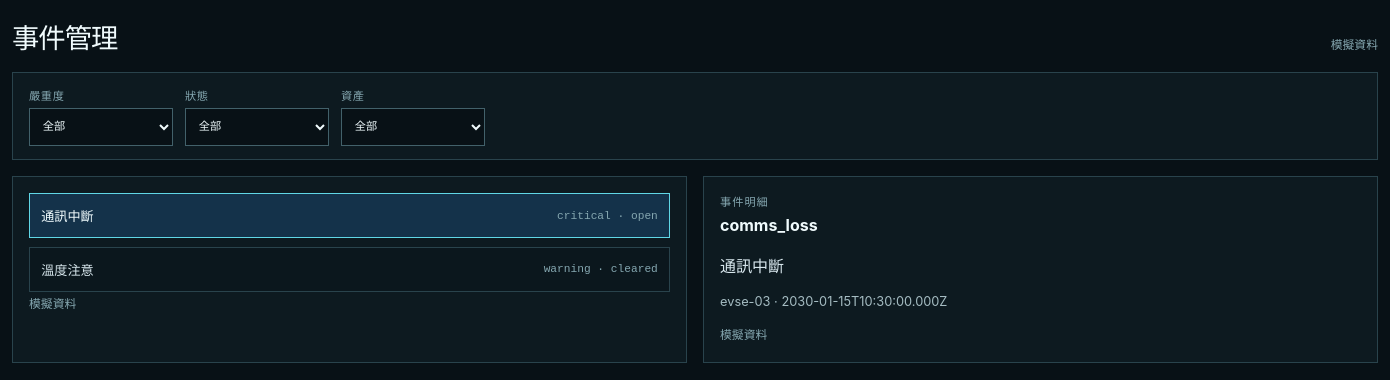
Scenario: filters events by severity and exposes the selected event detail
Expected: the heading "事件管理" is shown, [12,16,117,56]
Expected: the text "嚴重度" is shown, [29,87,173,146]
Select "critical" in the dropdown labelled "嚴重度" at (101, 127), box [29,108,173,146]
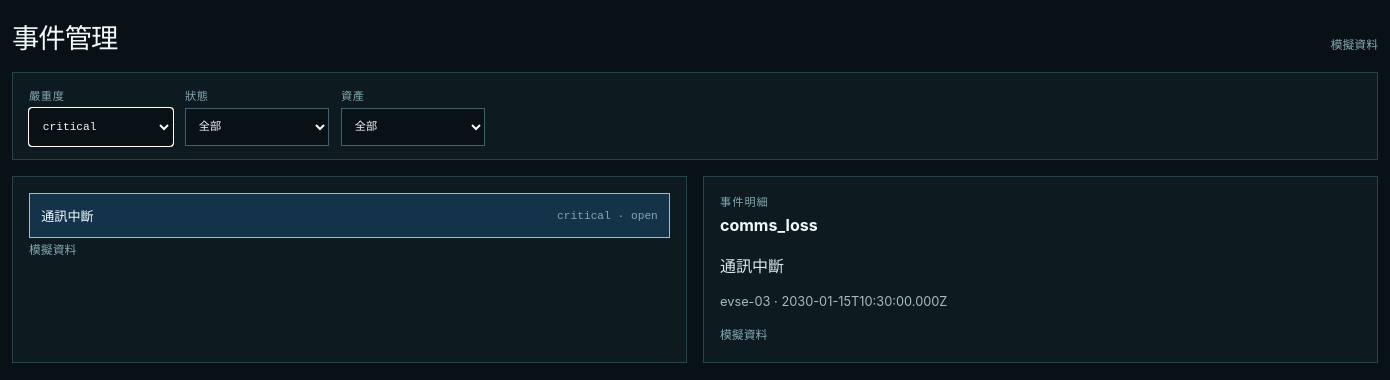
Expected: the 1st text "通訊中斷" is shown, [41,206,94,225]
Expected: the button "溫度注意" is gone
